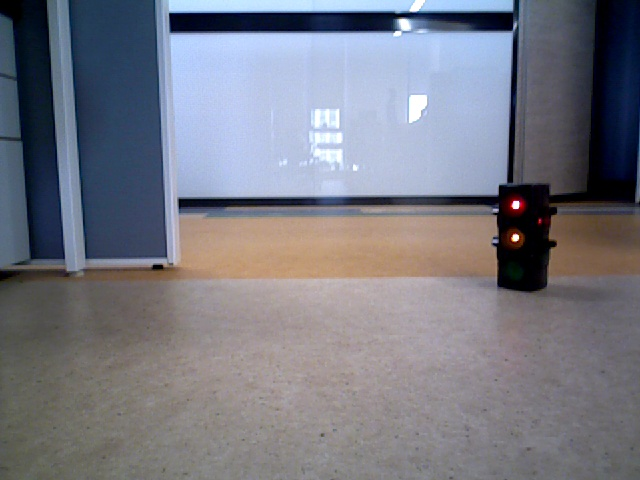red: (500, 183, 543, 284)
